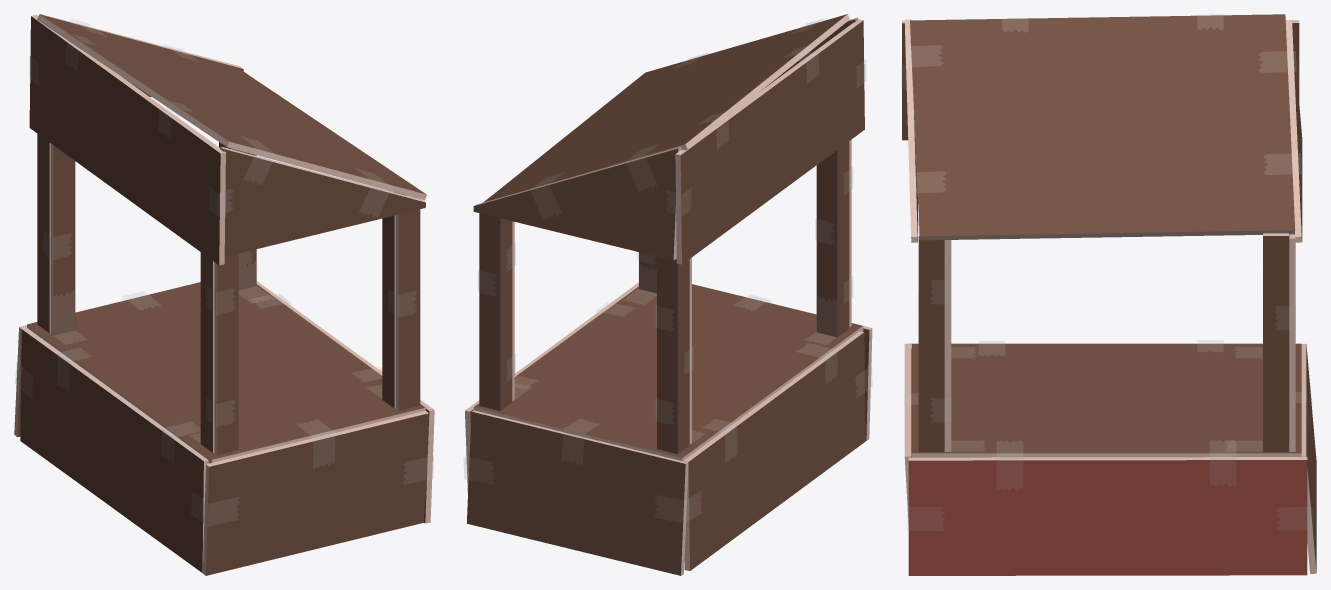
The model's file is cardboardstand.glb.
3 renders of one model, left to right at view 1: azimuth 30°, elevation 25°; view 2: azimuth 150°, elevation 25°; view 3: azimuth 270°, elevation 25°, orthographic. The views are drawn at different scales.
Visible parts, largest first — view 1: Cube, Cube.033; view 2: Cube, Cube.033; view 3: Cube.
Boxes of the visible parts, x1=… form: Cube: x1=14, y1=14, x2=434, y2=575; Cube.033: x1=15, y1=19, x2=433, y2=478; Cube: x1=465, y1=14, x2=872, y2=575; Cube.033: x1=463, y1=19, x2=872, y2=478; Cube: x1=902, y1=14, x2=1316, y2=575.
Size of the model in its own units: 4.28 by 7.7 by 6.39.
